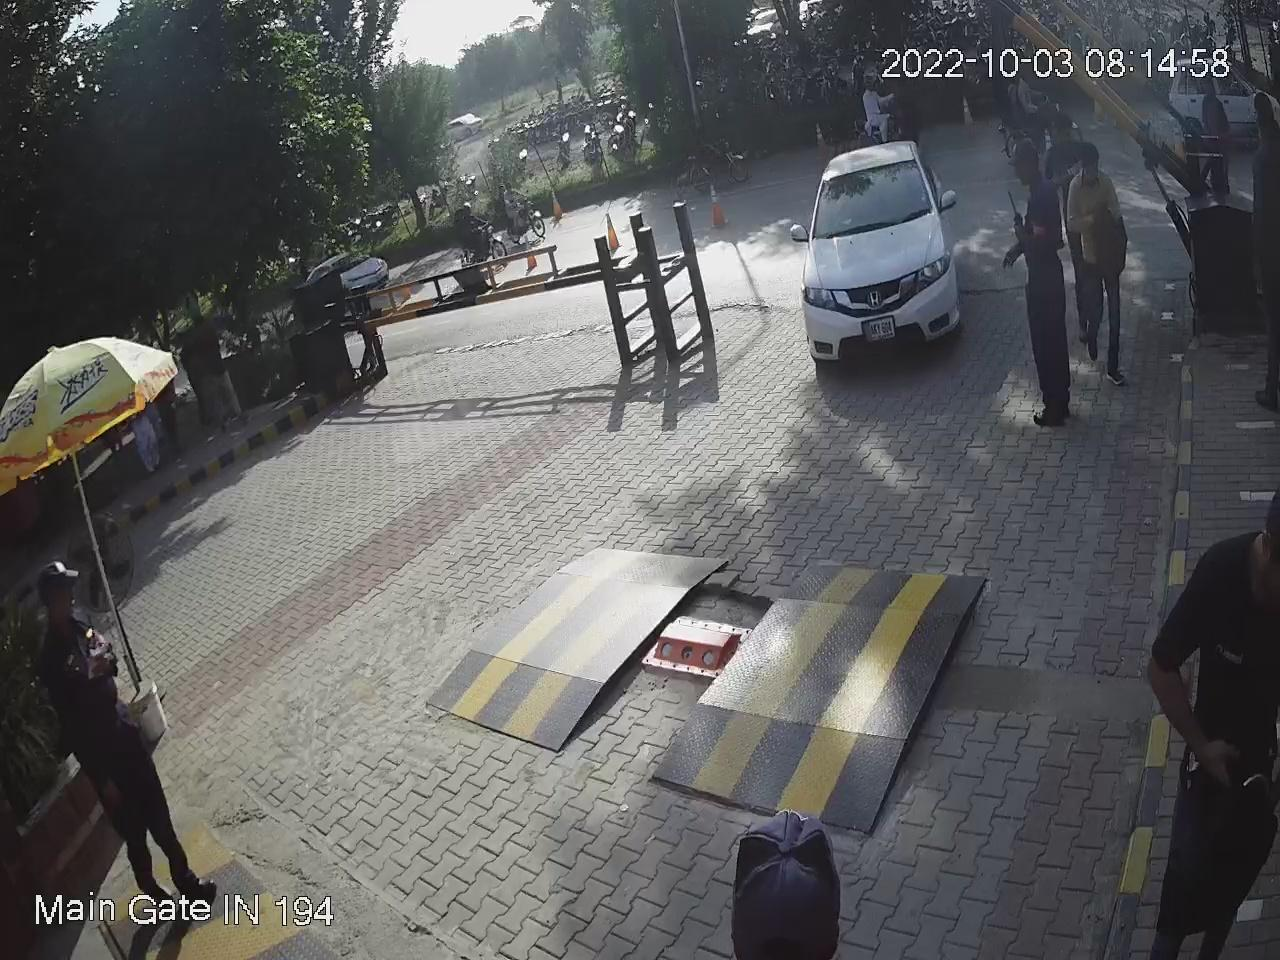windshield: (813, 147, 938, 247)
